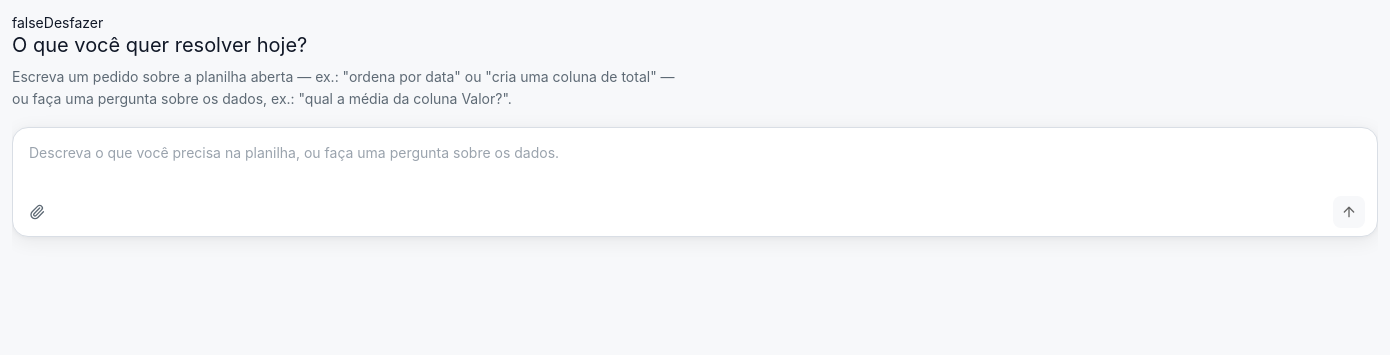
it: UnifiedChatTool › does not mutate the grid for a qa_response
Step 1. Type "qual a média da coluna Valor?" into the text box named "Pedido" → (695,158), box [13,128,1377,188]
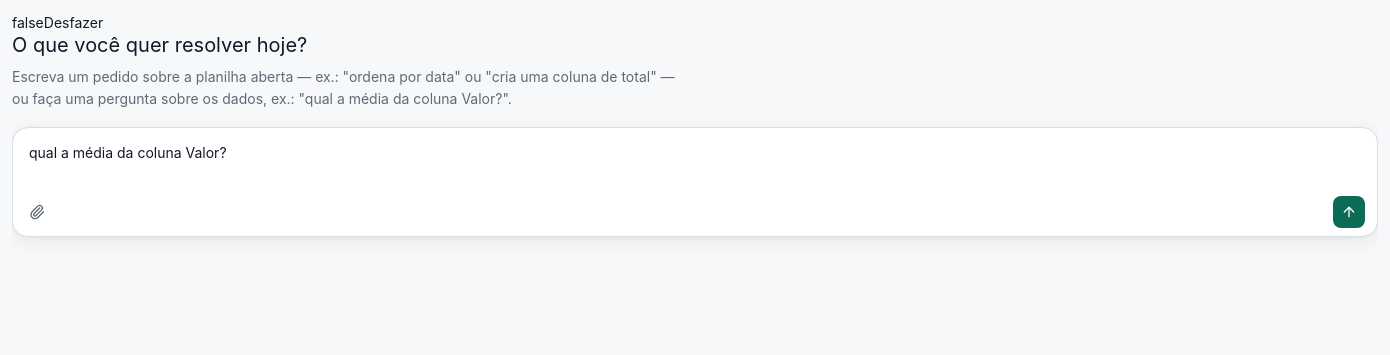
Step 2. Click the button named "Enviar" → (1349,212), box [1333,196,1365,228]
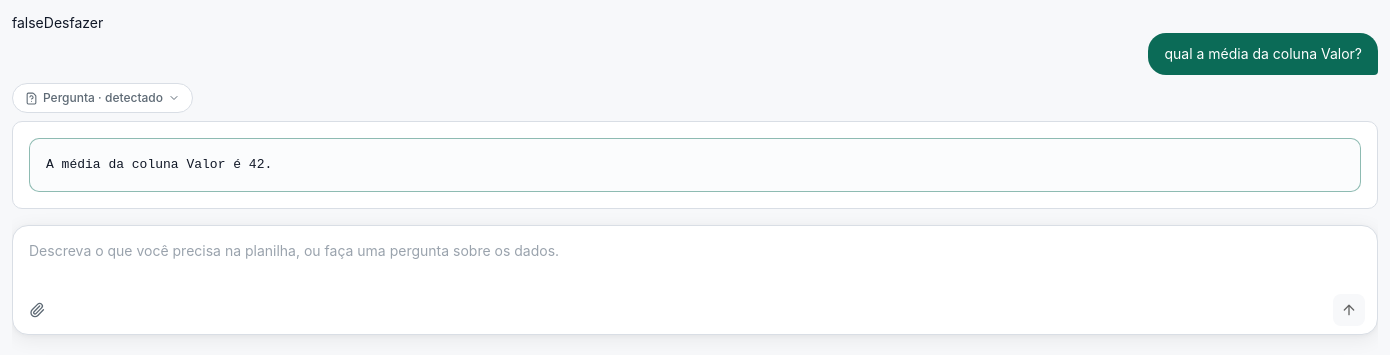
Expected: the text with test id "ws-can-undo" reads "false", [12,14,44,31]
Expected: the text "A média da coluna Valor é 42." is shown, [46,157,272,172]
